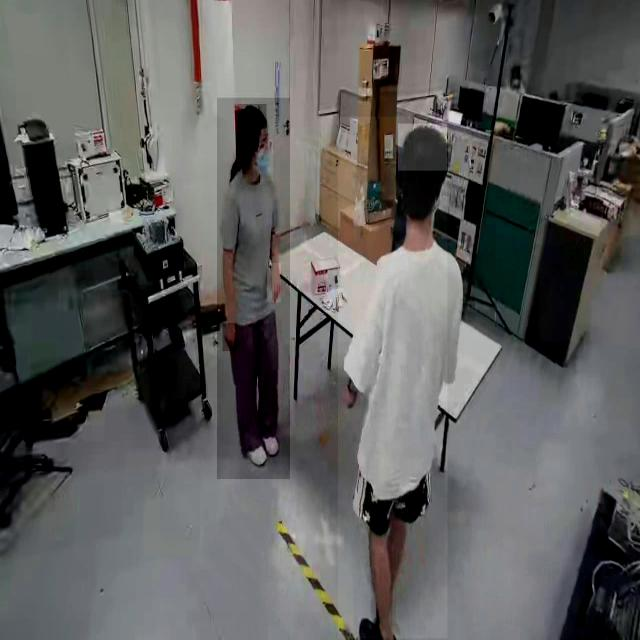face_mask: (253, 140, 273, 182)
hand_noglove: (267, 263, 281, 303), (223, 323, 237, 352)
head_nohelmet: (398, 124, 448, 172), (237, 104, 267, 130)
person: (338, 117, 448, 639), (217, 98, 291, 480)
shoes: (257, 414, 283, 464), (240, 427, 266, 470)
